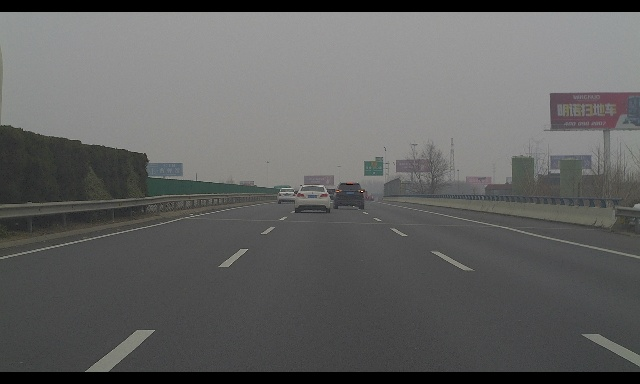car: (294, 184, 332, 213), (333, 182, 365, 209), (277, 188, 297, 204), (325, 189, 337, 200), (366, 195, 374, 201)
truck: (360, 191, 368, 200)
